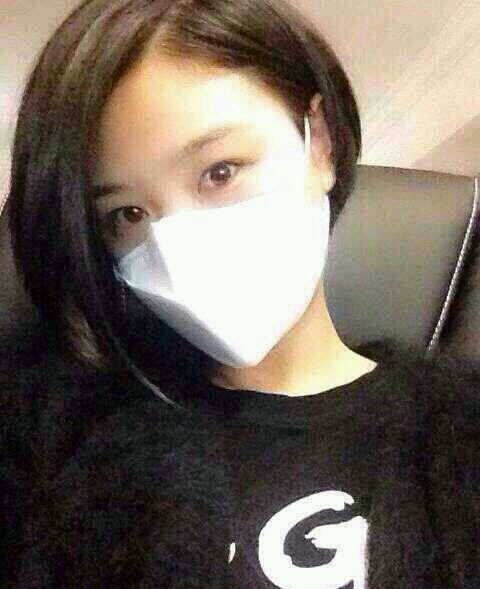face_mask: (95, 59, 328, 368)
